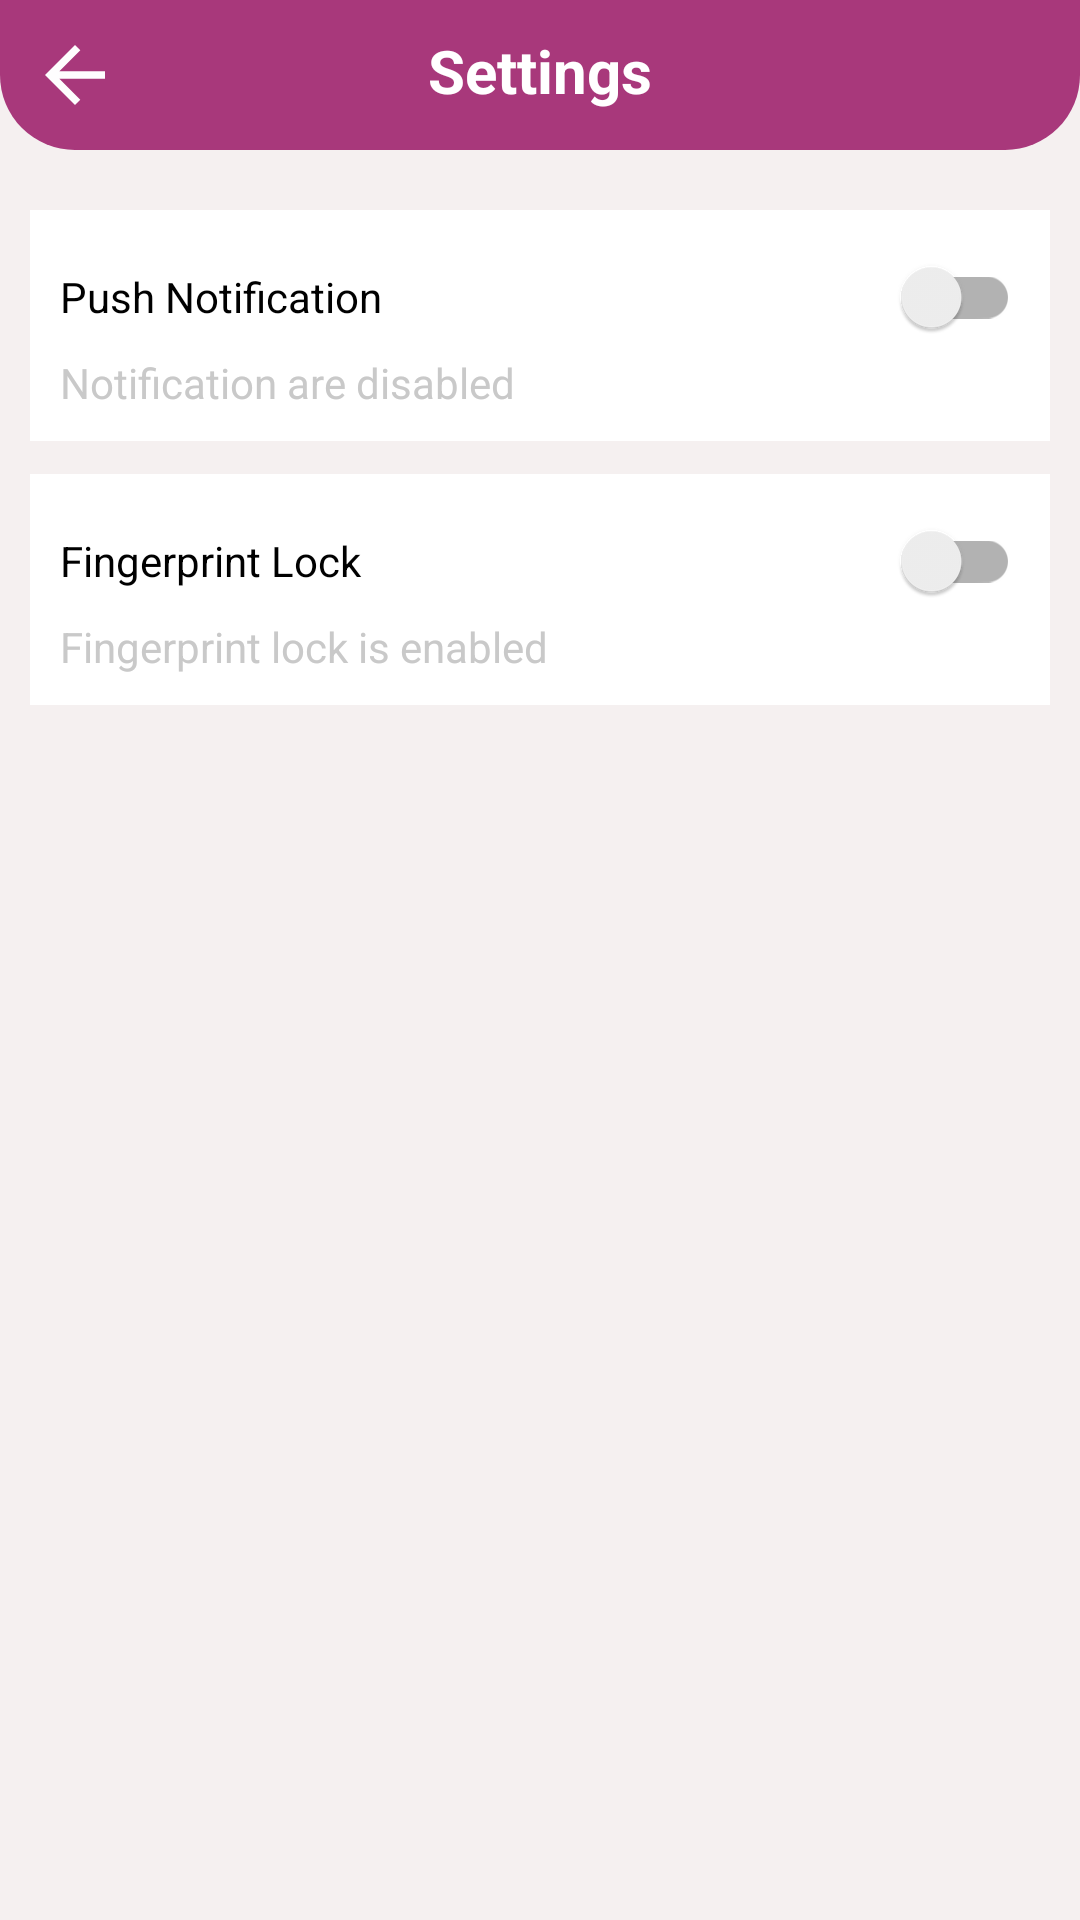

Where icons sit on this 1080 x 1920 app screen, as (x1, y1, x2, y2):
back: (45, 45, 105, 105)
